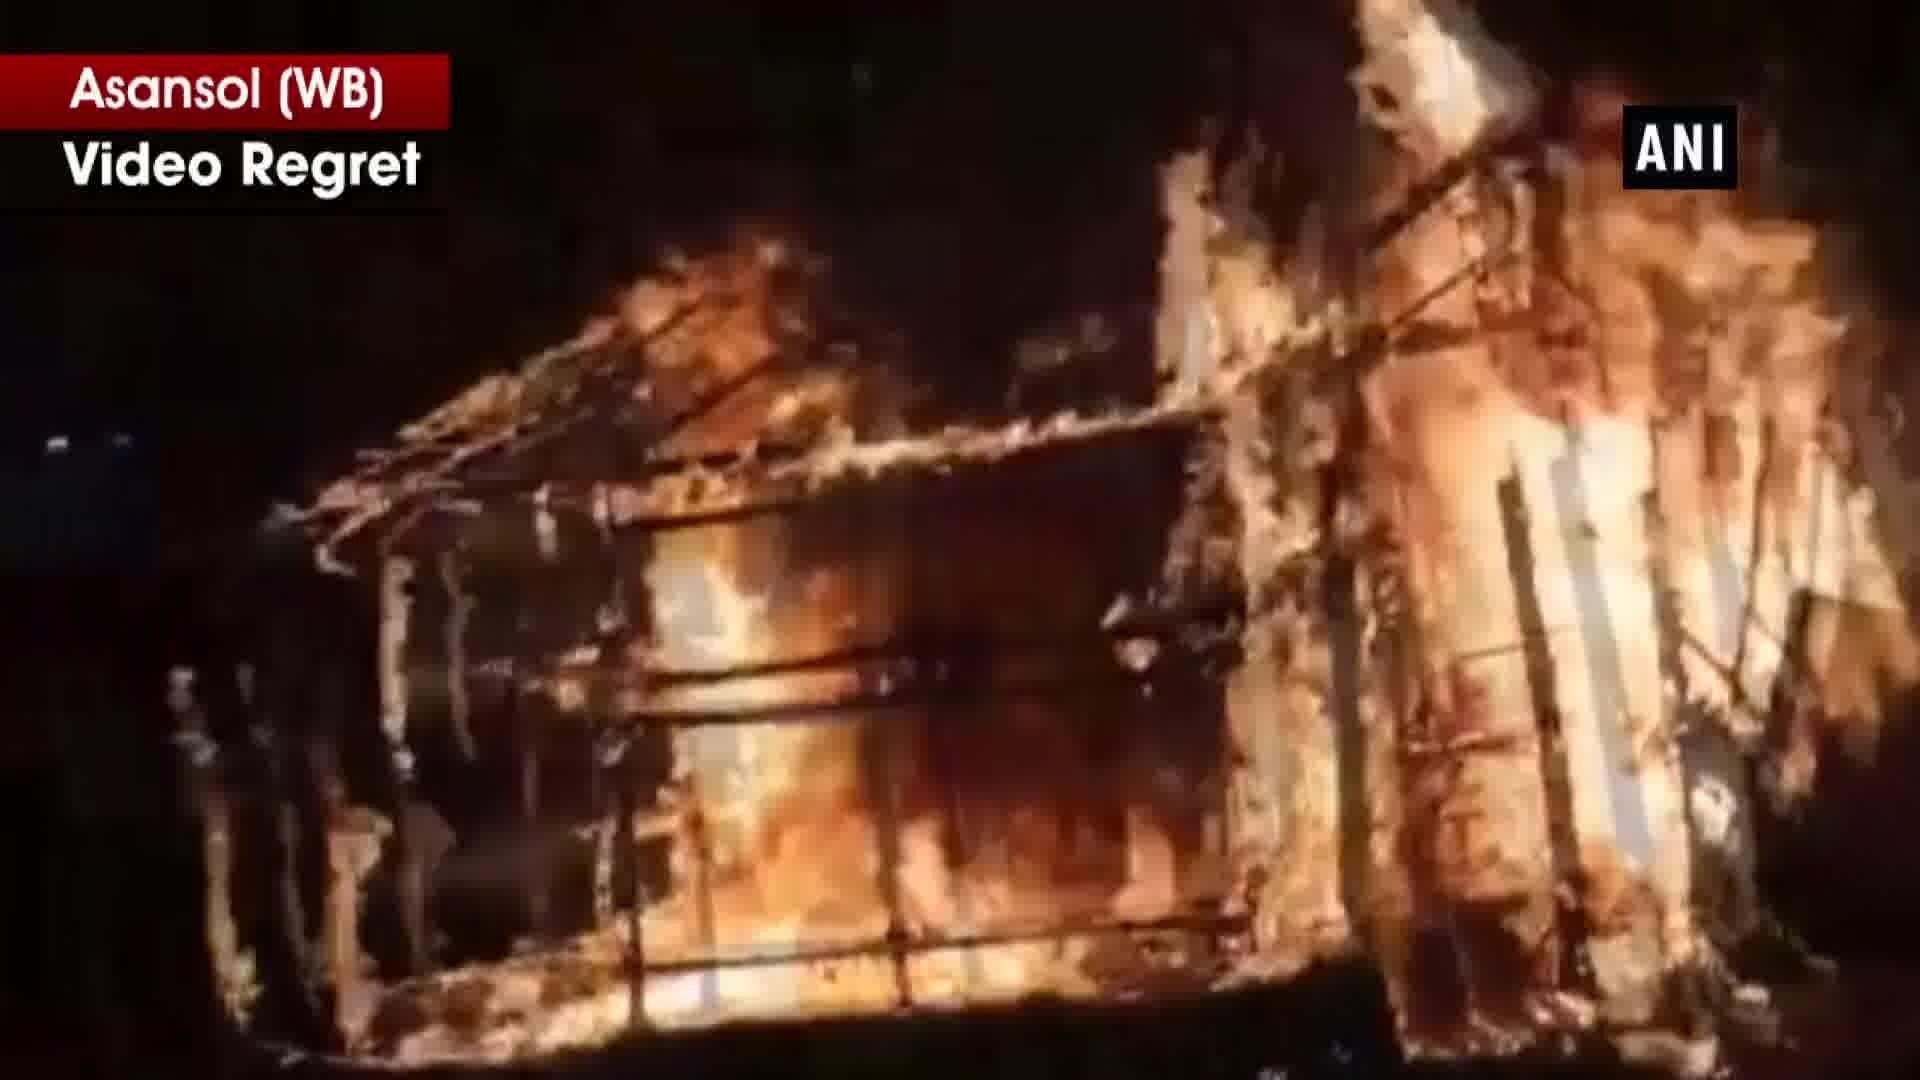fire: (506, 264, 1911, 1058)
